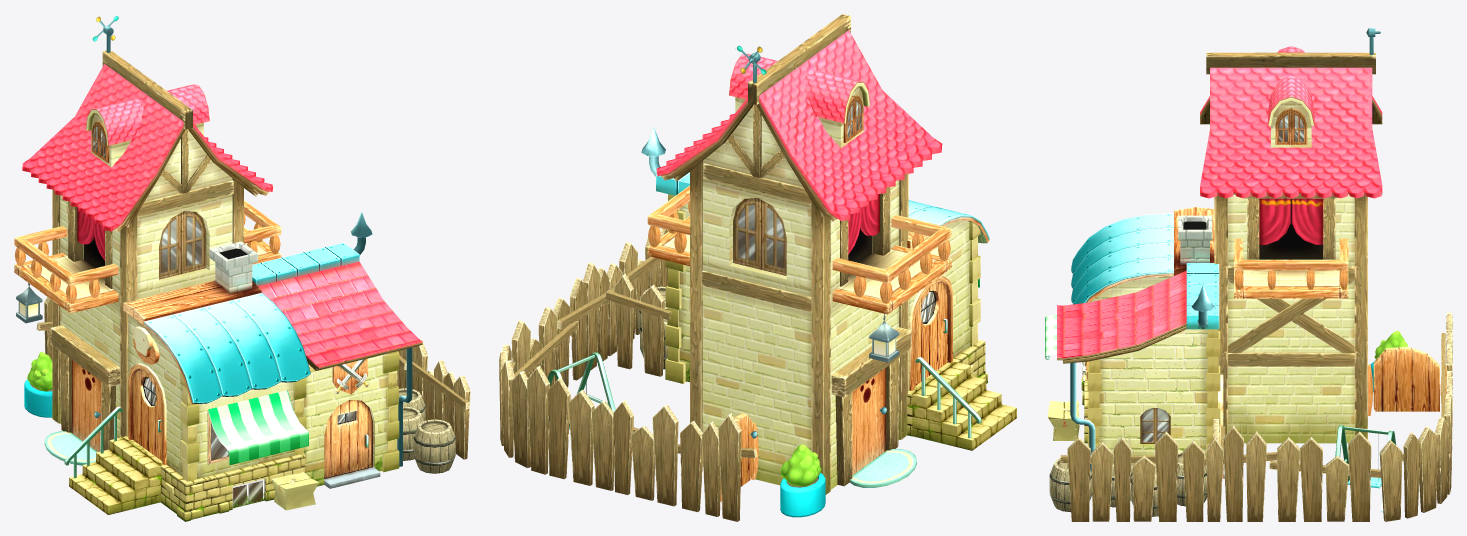
The model's file is BLD_HouseC.glb.
3 renders of one model, left to right at view 1: azimuth 30°, elevation 25°; view 2: azimuth 150°, elevation 25°; view 3: azimuth 270°, elevation 25°, orthographic. The views are drawn at different scales.
Parts seen in each view (by area): view 1: miniHouse_Part1_House Part 01_0, miniHouse_Part2_House Part 02_0, miniHouse_Part3_miniHouse_Part3_0; view 2: miniHouse_Part1_House Part 01_0, miniHouse_Part3_miniHouse_Part3_0, miniHouse_Part2_House Part 02_0; view 3: miniHouse_Part1_House Part 01_0, miniHouse_Part3_miniHouse_Part3_0, miniHouse_Part2_House Part 02_0.
Boxes of the visible parts, x1,y1,x2,y2 form: miniHouse_Part1_House Part 01_0: (14,25,281,465); miniHouse_Part2_House Part 02_0: (64,241,399,521); miniHouse_Part3_miniHouse_Part3_0: (36,211,470,488); miniHouse_Part1_House Part 01_0: (647,14,951,517); miniHouse_Part3_miniHouse_Part3_0: (499,127,757,521); miniHouse_Part2_House Part 02_0: (547,194,1016,450); miniHouse_Part1_House Part 01_0: (1200,28,1446,443); miniHouse_Part3_miniHouse_Part3_0: (1049,263,1452,521); miniHouse_Part2_House Part 02_0: (1045,207,1396,512).
Size of the model in its own units: 398 by 443 by 408.
4 materials, 4 textured.
